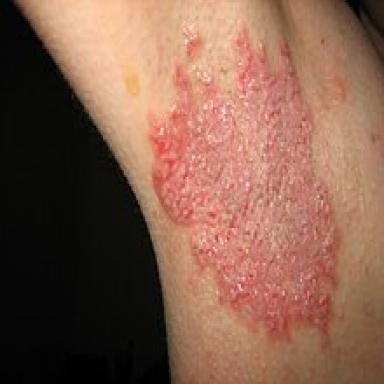Hailey-Hailey-Disease: (152, 21, 335, 336)
